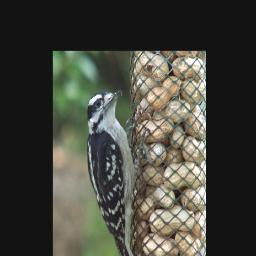Woodpecker: (78, 86, 152, 256)
